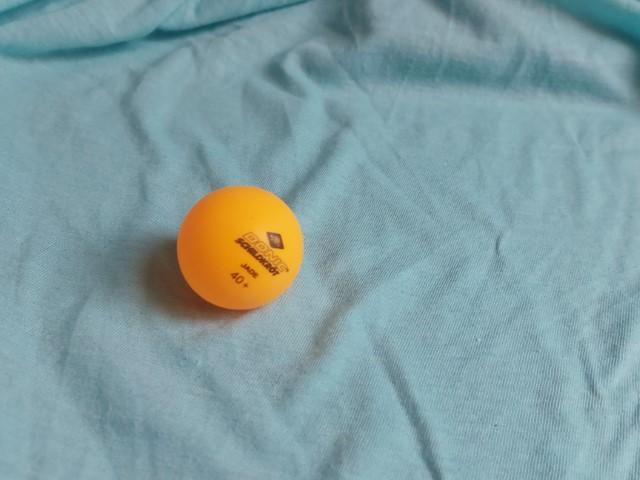oball: (169, 183, 315, 314)
